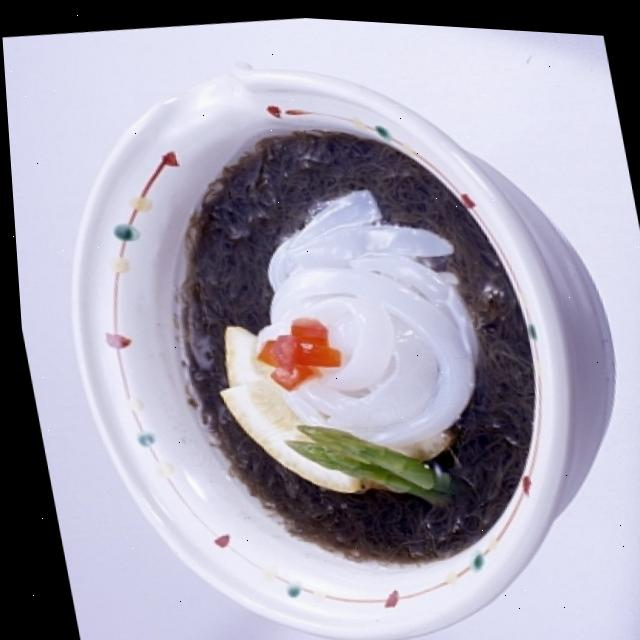蔬菜料理: (15, 17, 640, 640)
